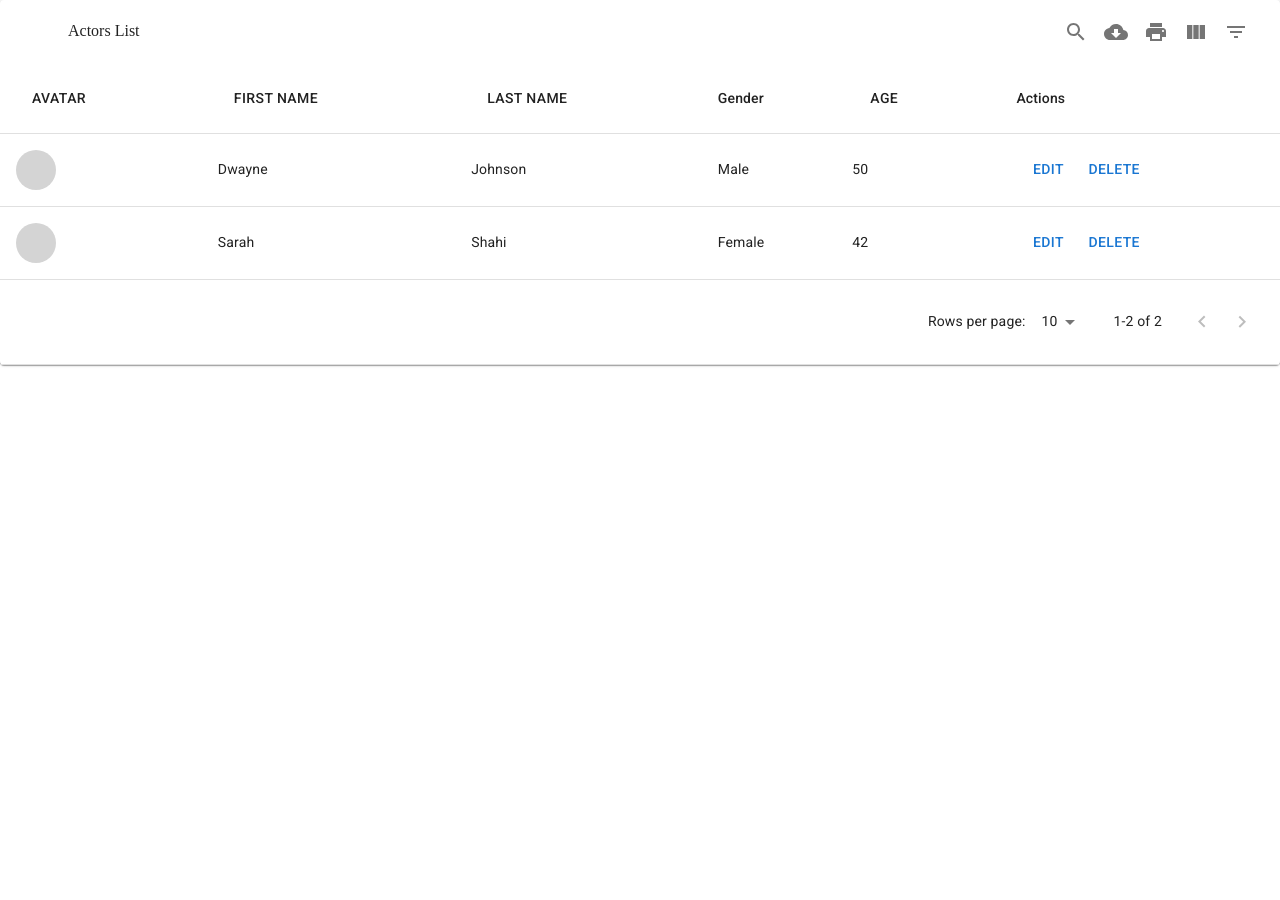
Test: <ActorTable /> › should render modal title
Click the button with test id "editButton" at (1048, 170), box [1016, 151, 1080, 188]
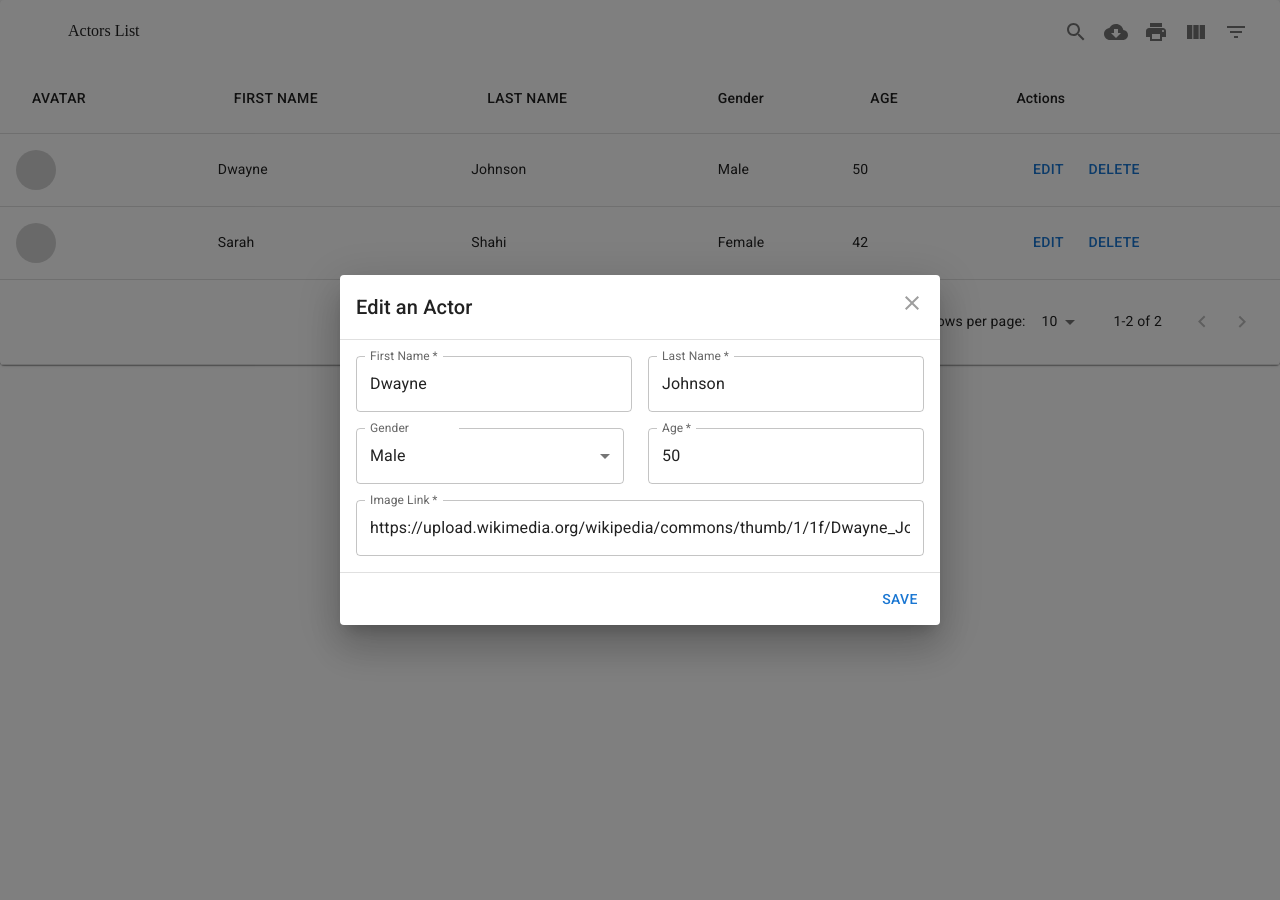
Now the heading "Edit an Actor" is shown, box [340, 275, 940, 339]
